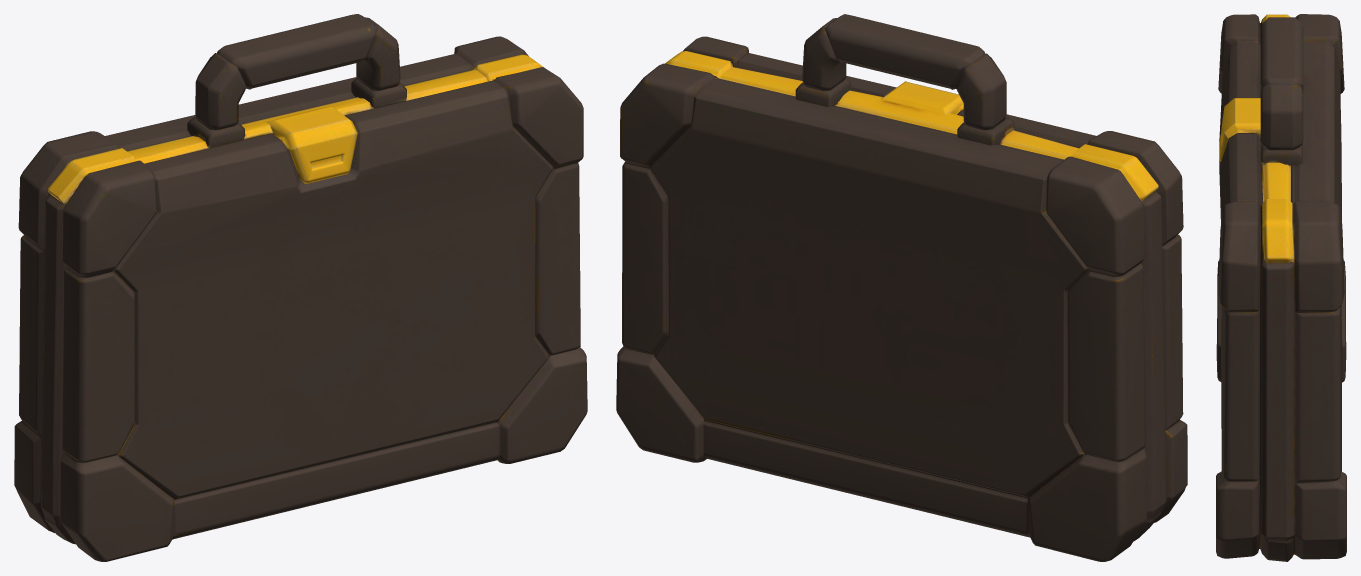
Rendered from briefcase.glb.
3 renders of one model, left to right at view 1: azimuth 30°, elevation 25°; view 2: azimuth 150°, elevation 25°; view 3: azimuth 270°, elevation 25°, orthographic. The views are drawn at different scales.
Parts seen in each view (by area): view 1: tripo_node_673e9113-f6be-4ef7-b217-427e4ae3d631; view 2: tripo_node_673e9113-f6be-4ef7-b217-427e4ae3d631; view 3: tripo_node_673e9113-f6be-4ef7-b217-427e4ae3d631.
Boxes of the visible parts, left/top/right/bottom form: tripo_node_673e9113-f6be-4ef7-b217-427e4ae3d631: left=14, top=14, right=587, bottom=561; tripo_node_673e9113-f6be-4ef7-b217-427e4ae3d631: left=616, top=14, right=1187, bottom=561; tripo_node_673e9113-f6be-4ef7-b217-427e4ae3d631: left=1216, top=14, right=1346, bottom=561.
Size of the model in its own units: 0.9995 by 0.8394 by 0.2417.
Materials: 1 (1 with a texture image).
